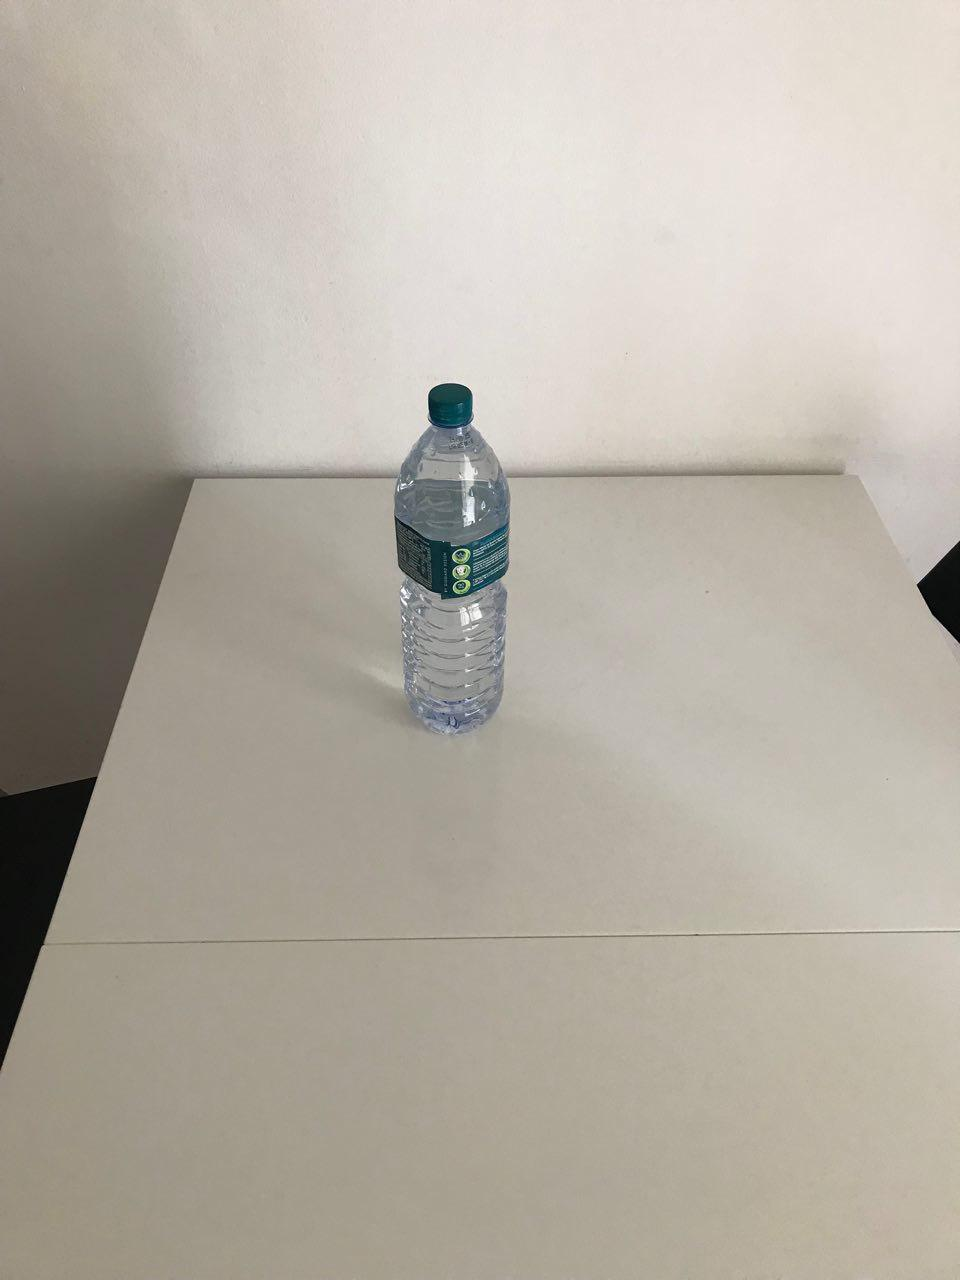san_bernardo: (392, 381, 512, 737)
